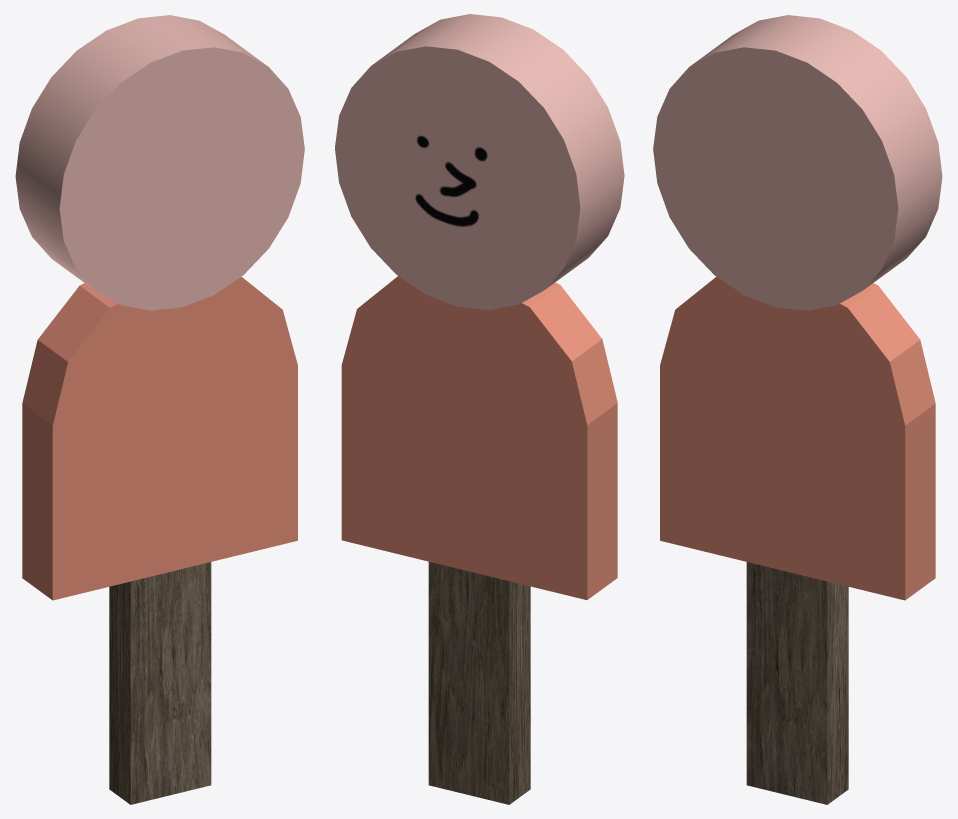
File: Stickman.glb
The picture shows the model from 3 angles, left to right: view 1: azimuth 30°, elevation 25°; view 2: azimuth 150°, elevation 25°; view 3: azimuth 330°, elevation 25°; orthographic projection.
Parts seen in each view (by area): view 1: new glosso guy.001, new glosso guy.002, new glosso guy; view 2: new glosso guy.001, new glosso guy.002, new glosso guy, new glosso guy.003; view 3: new glosso guy.001, new glosso guy.002, new glosso guy.
Part boxes in pixels (left/top/right/bottom): new glosso guy.001: left=22, top=277, right=297, bottom=600; new glosso guy.002: left=15, top=15, right=304, bottom=310; new glosso guy: left=109, top=562, right=211, bottom=804; new glosso guy.001: left=341, top=276, right=617, bottom=599; new glosso guy.002: left=335, top=14, right=624, bottom=309; new glosso guy: left=428, top=561, right=530, bottom=804; new glosso guy.003: left=415, top=135, right=487, bottom=226; new glosso guy.001: left=660, top=277, right=935, bottom=600; new glosso guy.002: left=653, top=15, right=942, bottom=310; new glosso guy: left=746, top=562, right=848, bottom=804.
Bounding box in the file's own units: 0.8484 × 2.49 × 0.2725.
Materials: 4 (2 with a texture image).
